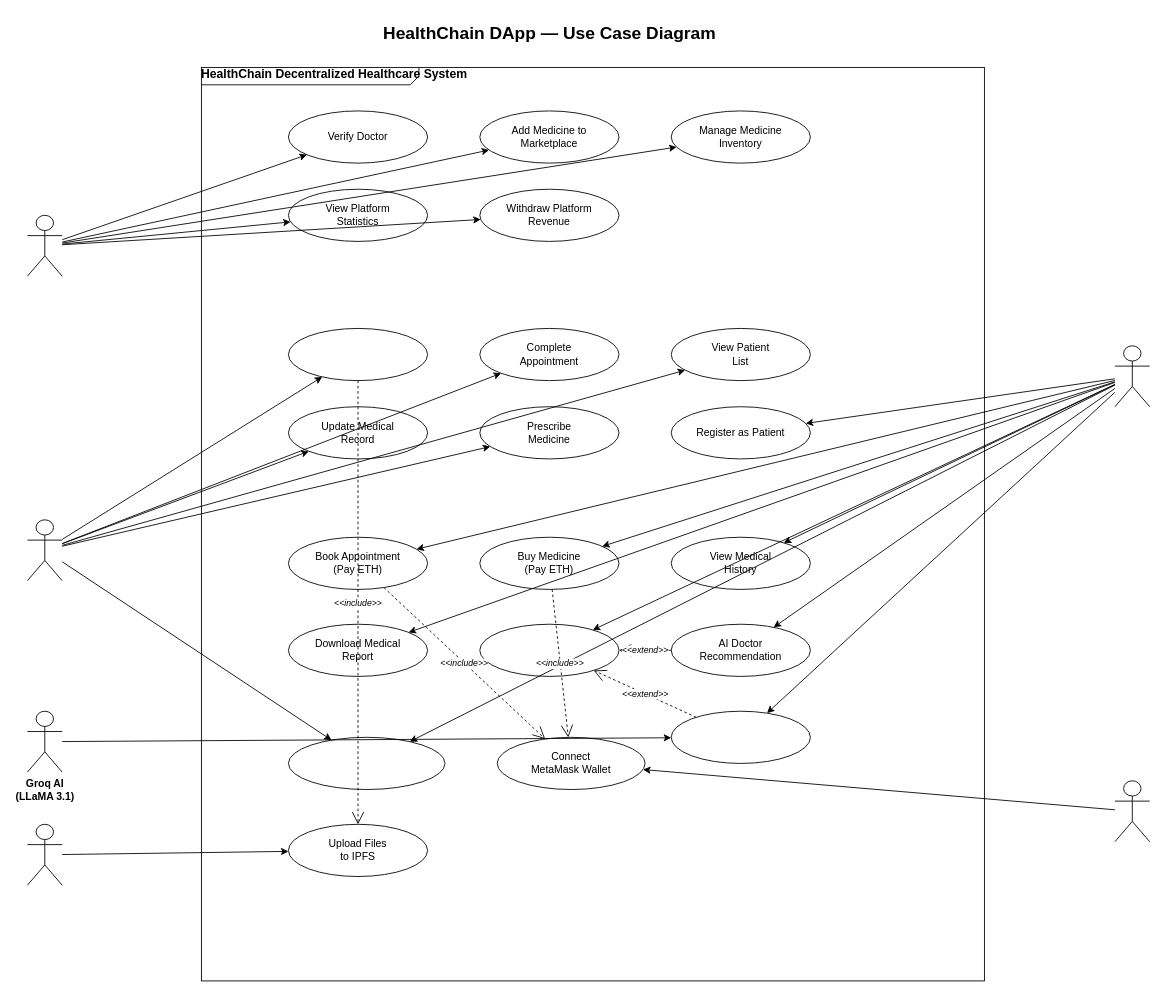
Image size: 1175x996. Some labels were removed from this diagram. The shapes that lost their labels are listed below. From the top down, each one's centre as x and y in pixels, then its label:
At point (44, 245): "Admin".
At point (358, 354): "Register as Doctor".
At point (1132, 376): "Patient".
At point (44, 550): "Doctor".
At point (549, 649): "Find & Search Doctors".
At point (740, 736): "Get AI Guidance (HealthBot)".
At point (366, 763): "Send / Receive Encrypted Messages".
At point (1132, 811): "Ethereum Blockchain".
At point (44, 854): "IPFS Storage".
